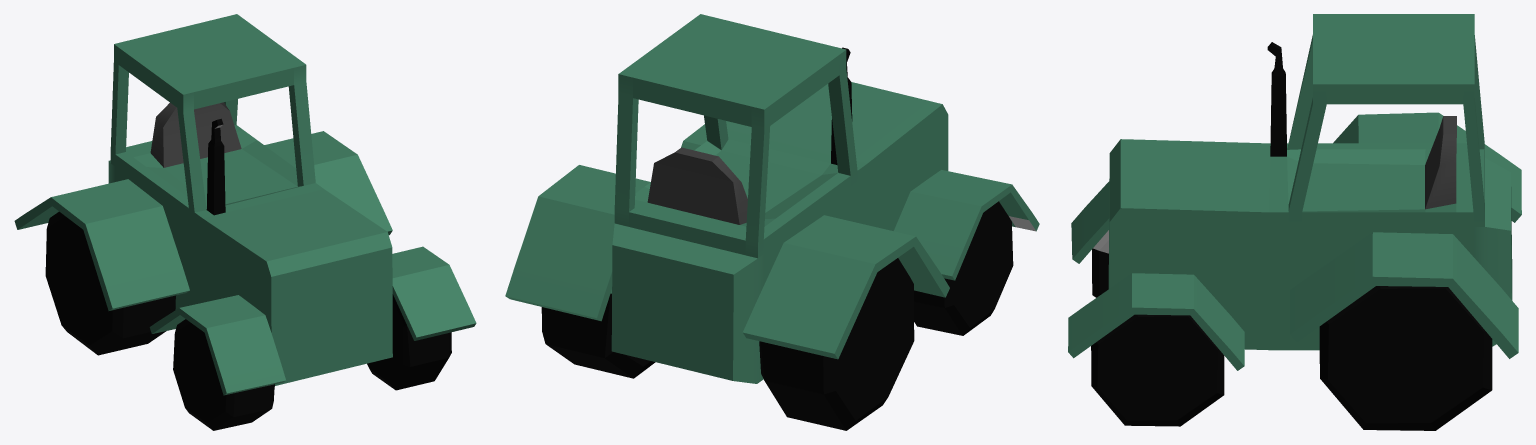
The model's file is Tractor.fbx.
The picture shows the model from 3 angles, left to right: view 1: azimuth 30°, elevation 25°; view 2: azimuth 150°, elevation 25°; view 3: azimuth 270°, elevation 25°; orthographic projection. The views are drawn at different scales.
Parts seen in each view (by area): view 1: polySurface3; view 2: polySurface3; view 3: polySurface3.
Part boxes in pixels (<box>): polySurface3: <box>14,14,476,430</box>; polySurface3: <box>505,14,1039,430</box>; polySurface3: <box>1068,14,1521,430</box>.
Size of the model in its own units: 13.29 by 12.28 by 15.98.
